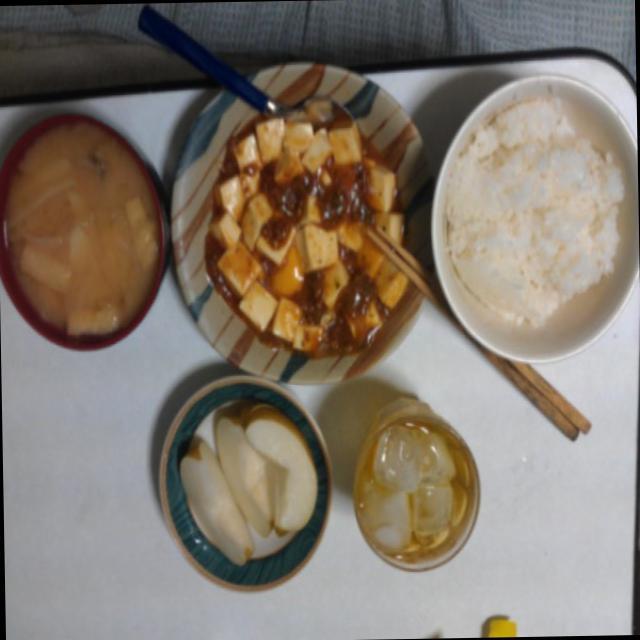Rice: (443, 98, 627, 338)
